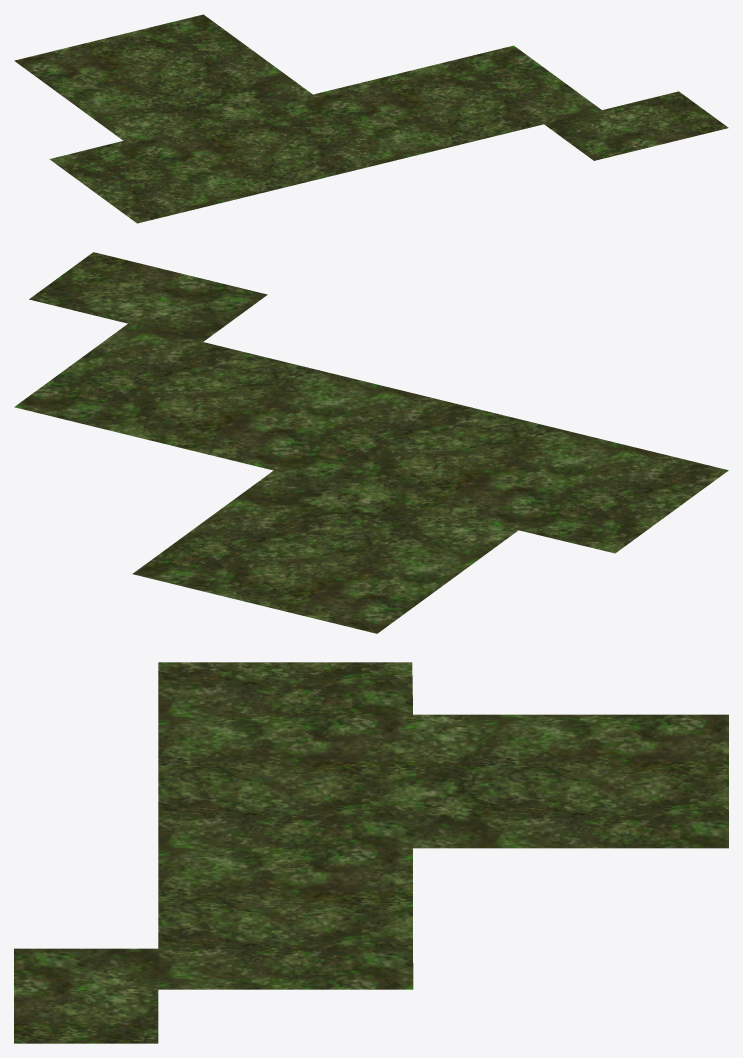
The model's file is OVERHILL_A_01_LINE228.fbx.
The picture shows the model from 3 angles, top to bottom: view 1: azimuth 30°, elevation 25°; view 2: azimuth 150°, elevation 25°; view 3: azimuth 270°, elevation 25°; orthographic projection. The views are drawn at different scales.
Parts seen in each view (by area): view 1: OVERHILL_A_01_LINE228; view 2: OVERHILL_A_01_LINE228; view 3: OVERHILL_A_01_LINE228.
Boxes of the visible parts, <box> form: OVERHILL_A_01_LINE228: <box>14,14,728,223</box>; OVERHILL_A_01_LINE228: <box>14,252,728,633</box>; OVERHILL_A_01_LINE228: <box>14,662,728,1043</box>.
Bounding box in the file's own units: 93224 × 0.0555 × 73851.
Materials: 1 (1 with a texture image).
